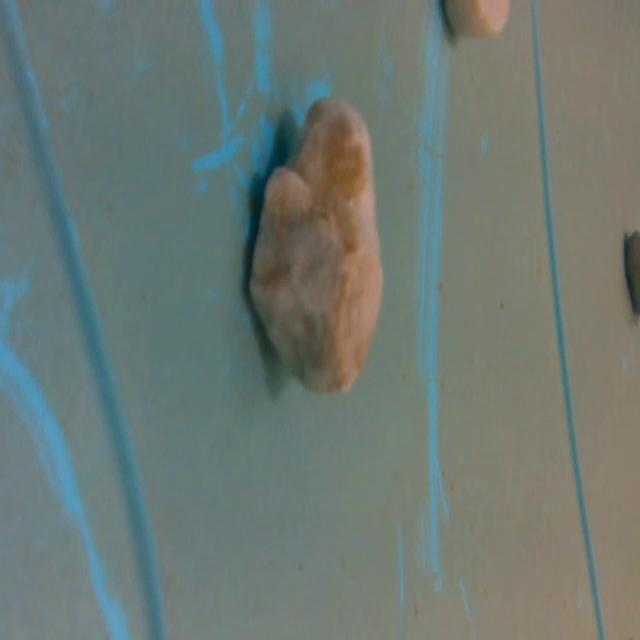rock: (236, 86, 392, 401)
